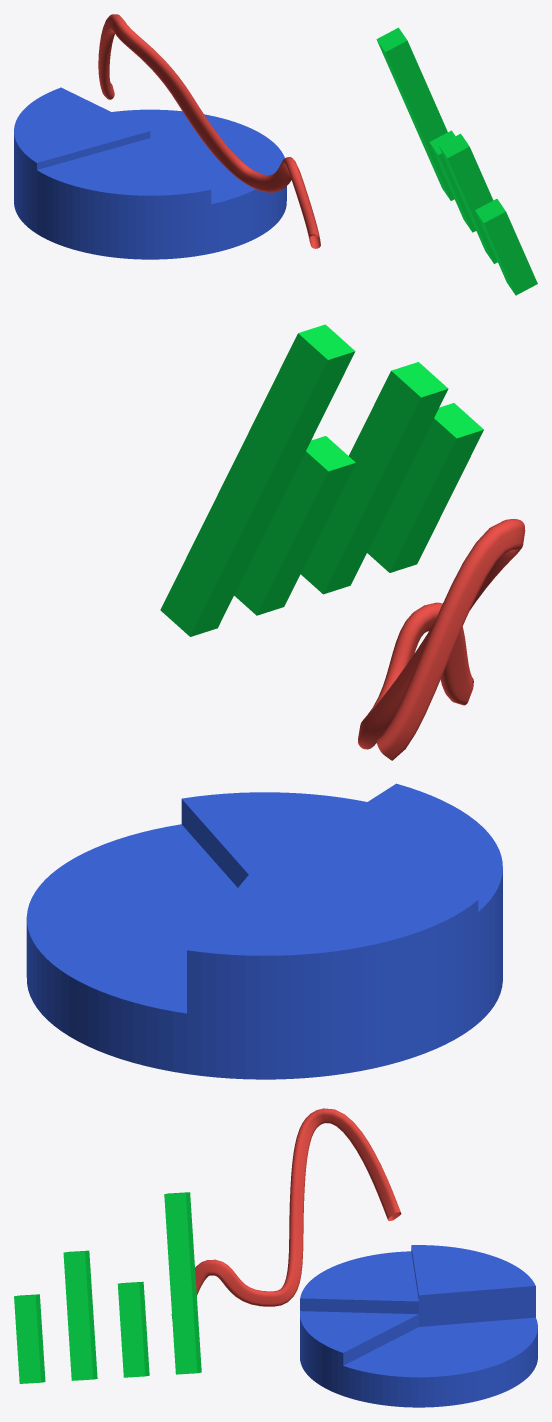
Rendered from quomeda.glb.
3 renders of one model, top to bottom at view 1: azimuth 30°, elevation 25°; view 2: azimuth 150°, elevation 25°; view 3: azimuth 270°, elevation 25°, orthographic. The views are drawn at different scales.
Parts seen in each view (by area): view 1: Pie, Bars, Line; view 2: Pie, Bars, Line; view 3: Pie, Bars, Line.
Part boxes in pixels (bbox=[...]): Pie: bbox=[14, 87, 286, 259]; Bars: bbox=[376, 27, 537, 295]; Line: bbox=[98, 14, 320, 248]; Pie: bbox=[26, 783, 502, 1079]; Bars: bbox=[160, 324, 483, 636]; Line: bbox=[358, 519, 525, 760]; Pie: bbox=[300, 1245, 537, 1407]; Bars: bbox=[14, 1192, 201, 1383]; Line: bbox=[171, 1108, 401, 1318].
Size of what is drawn, in the model's own units: 8.9 by 6.81 by 15.18.
